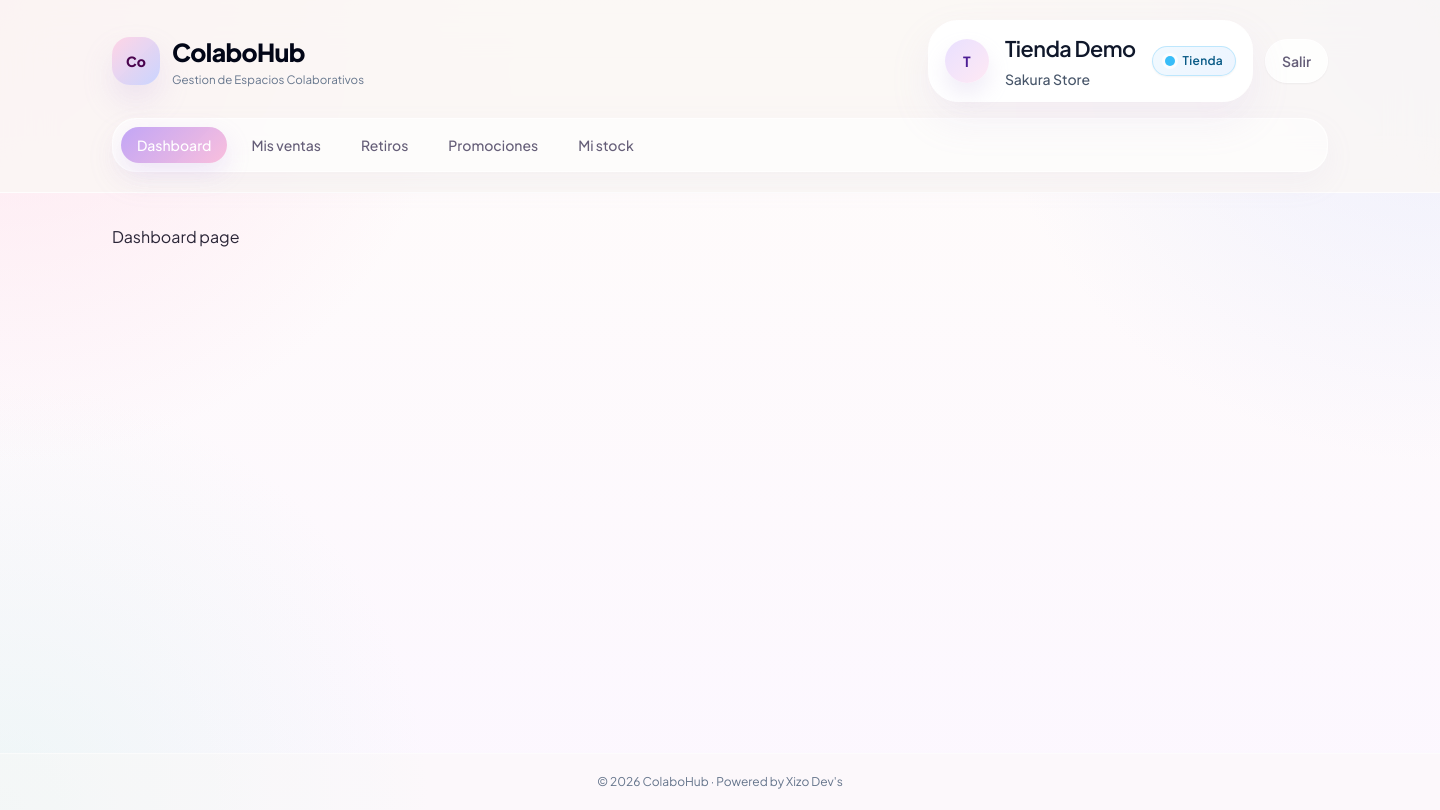
Scenario: AppShell › keeps collaborator navigation visible across route changes
Expected: the link "Mis ventas" is shown, [252, 136, 321, 154]
Click the link "Mi stock": (606, 145) [578, 136, 634, 154]
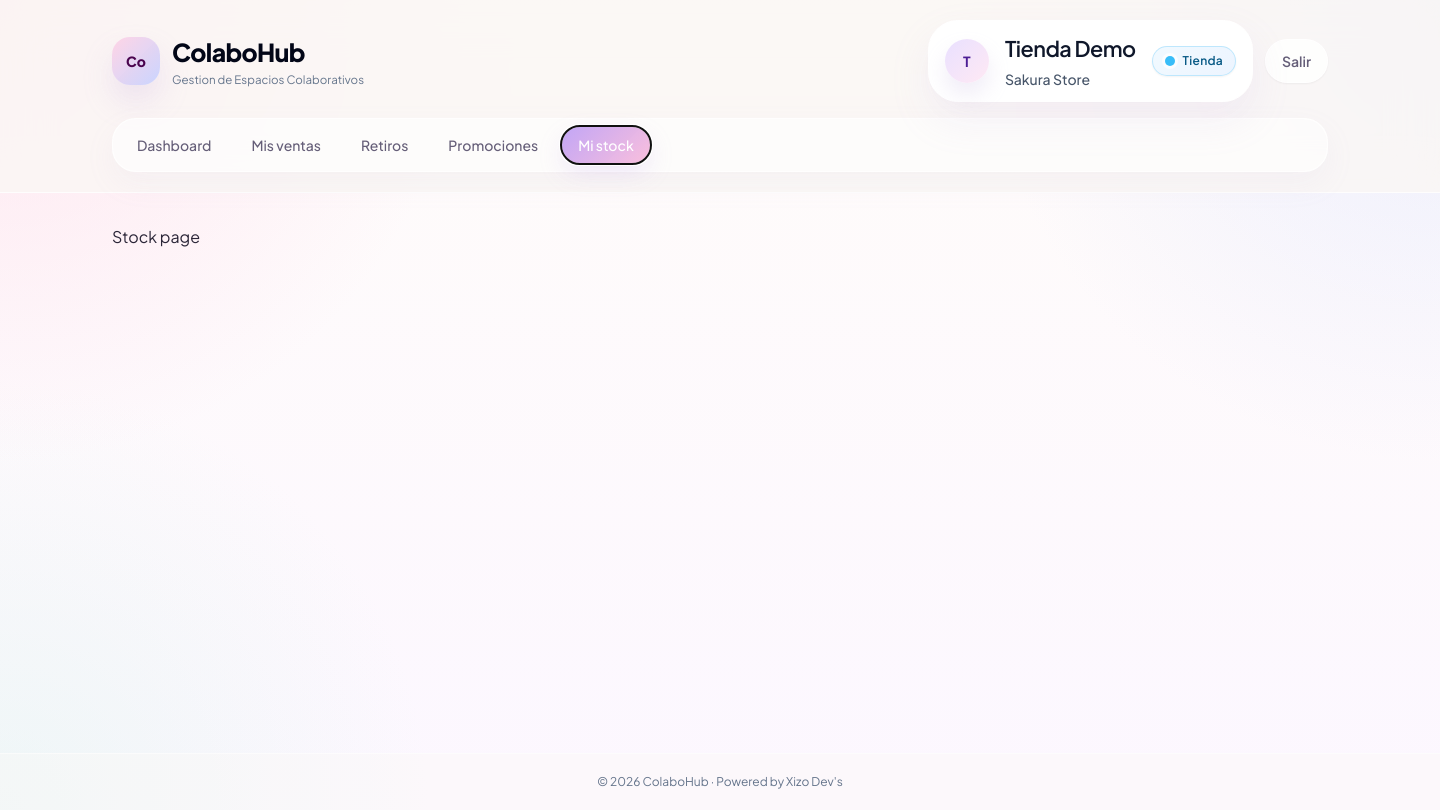
Expected: the link "Dashboard" is shown, [137, 136, 212, 154]
Now the text "Stock page" is shown, box [112, 226, 200, 247]
